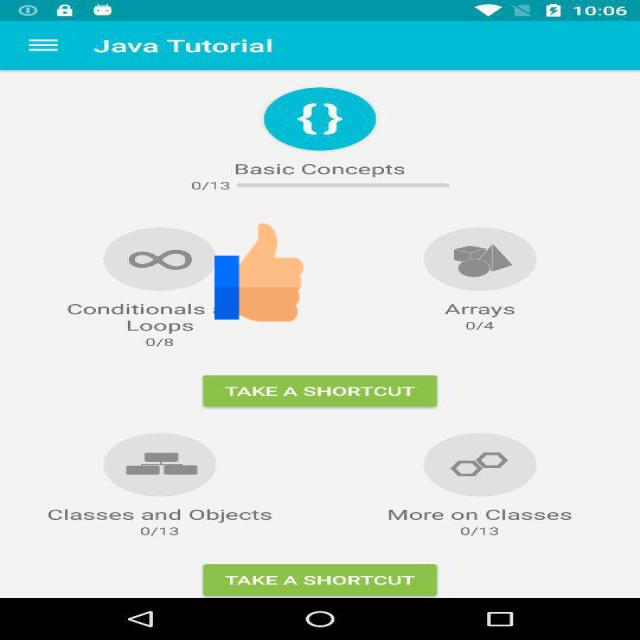privacy zuckering: (214, 221, 304, 324)
